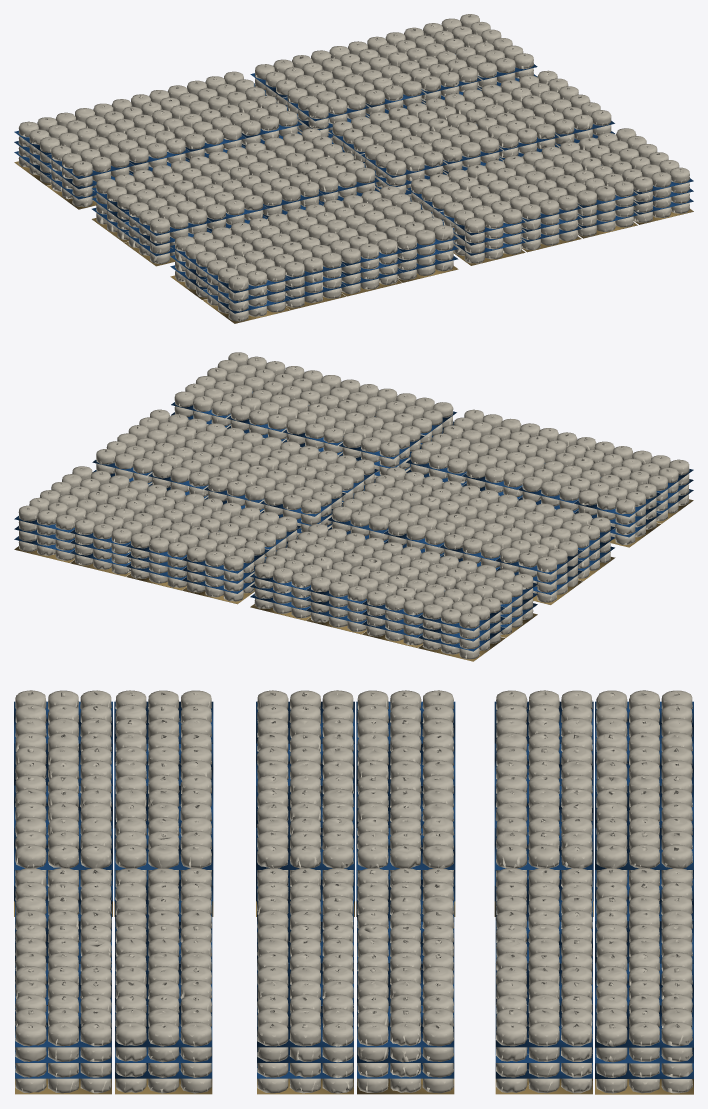
File: drumtube.glb
The picture shows the model from 3 angles, top to bottom: view 1: azimuth 30°, elevation 25°; view 2: azimuth 150°, elevation 25°; view 3: azimuth 270°, elevation 25°; orthographic projection. The views are drawn at different scales.
Parts seen in each view (by area): view 1: drum1; view 2: drum1; view 3: drum1.
Part boxes in pixels (<box>): drum1: <box>14,14,693,323</box>; drum1: <box>14,352,693,661</box>; drum1: <box>14,690,693,1094</box>.
Size of the model in its own units: 18.84 by 1.59 by 15.66.
